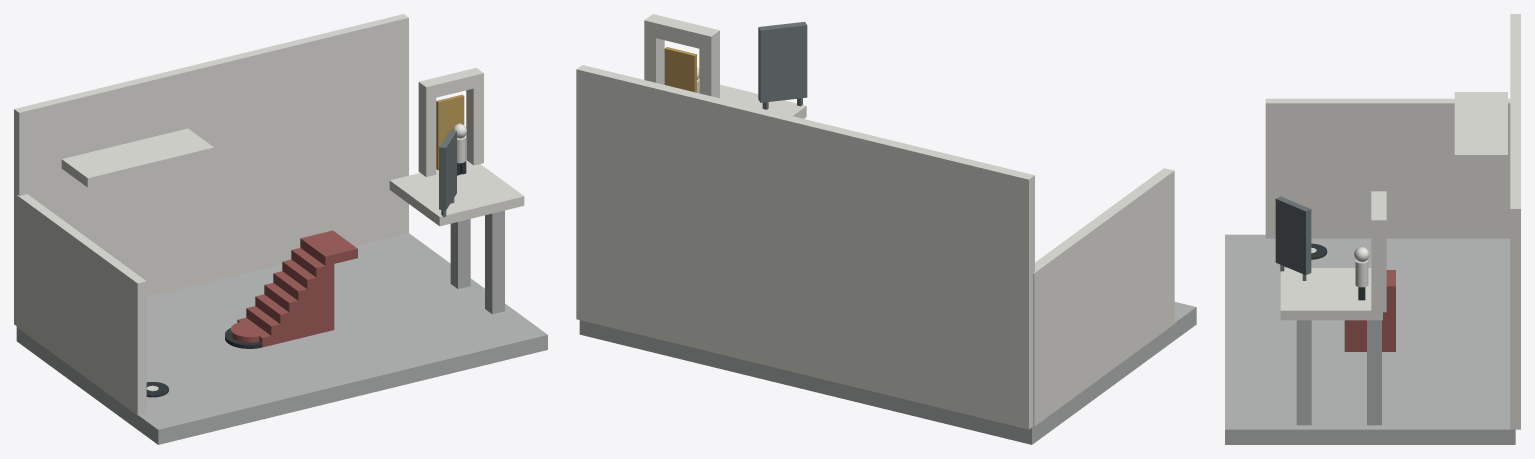
The model's file is 04_goal.glb.
The picture shows the model from 3 angles, left to right: view 1: azimuth 30°, elevation 25°; view 2: azimuth 150°, elevation 25°; view 3: azimuth 270°, elevation 25°; orthographic projection. The views are drawn at different scales.
Visible parts, largest first — view 1: RearWall, Base, LeftWall, RearShelf, FarPlatform, FarSupport, LeftPier, RightPier, FarSupportRear, TransitionMask, Step_7, Lintel (+9 smaller); view 2: RearWall, LeftWall, Base, TransitionMask, Lintel, LeftPier, Door, RightPier, FarPlatform; view 3: Base, LeftWall, RearWall, FarPlatform, RearShelf, TransitionMask, FarSupport, FarSupportRear, RightPier, Step_7, Lintel, Body.
Boxes of the visible parts, x1,y1,x2,y2 form: RearWall: [14, 14, 408, 325]; Base: [16, 233, 547, 444]; LeftWall: [16, 194, 146, 415]; RearShelf: [61, 128, 213, 187]; FarPlatform: [389, 161, 524, 226]; FarSupport: [485, 210, 504, 314]; LeftPier: [418, 80, 436, 176]; RightPier: [466, 67, 483, 165]; FarSupportRear: [450, 219, 470, 288]; TransitionMask: [439, 130, 456, 210]; Step_7: [300, 236, 334, 331]; Lintel: [418, 68, 483, 99]; RearWall: [576, 65, 1034, 429]; LeftWall: [1033, 168, 1174, 426]; Base: [579, 302, 1196, 444]; TransitionMask: [758, 21, 807, 102]; Lintel: [644, 14, 719, 49]; LeftPier: [699, 31, 719, 98]; Door: [664, 47, 696, 92]; RightPier: [644, 14, 664, 84]; FarPlatform: [699, 84, 806, 118]; Base: [1225, 234, 1515, 444]; LeftWall: [1265, 98, 1510, 238]; RearWall: [1510, 14, 1520, 429]; FarPlatform: [1280, 268, 1382, 320]; RearShelf: [1454, 92, 1507, 164]; TransitionMask: [1275, 196, 1311, 275]; FarSupport: [1296, 320, 1311, 425]; FarSupportRear: [1367, 320, 1381, 425]; RightPier: [1371, 215, 1386, 312]; Step_7: [1344, 270, 1395, 351]; Lintel: [1371, 191, 1386, 232]; Body: [1355, 260, 1368, 287].
Size of the model in its own units: 11.03 by 6.1 by 6.93.
